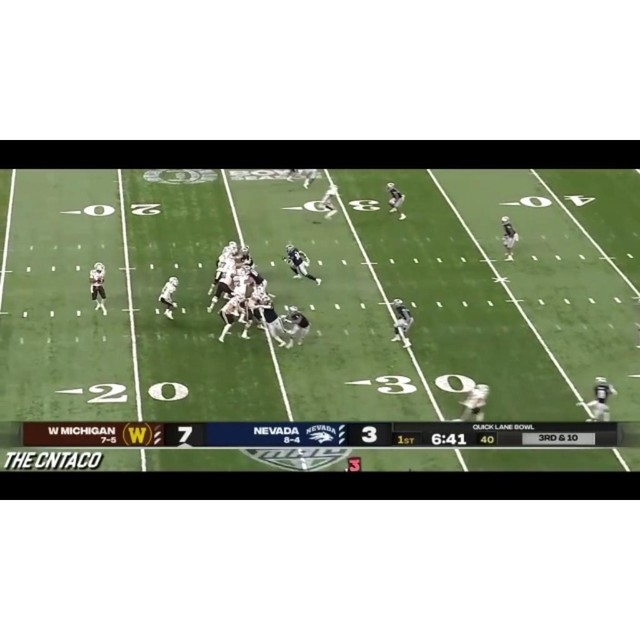american-football-player: (578, 375, 619, 422), (257, 292, 289, 349), (283, 244, 322, 286), (207, 260, 238, 312), (216, 293, 245, 343), (389, 297, 415, 348), (241, 289, 266, 341), (458, 382, 491, 421), (283, 304, 311, 349), (89, 262, 108, 315), (158, 276, 180, 321), (499, 215, 520, 262), (317, 185, 342, 222), (243, 259, 268, 293), (385, 181, 406, 220), (233, 264, 252, 298), (216, 240, 239, 266)
